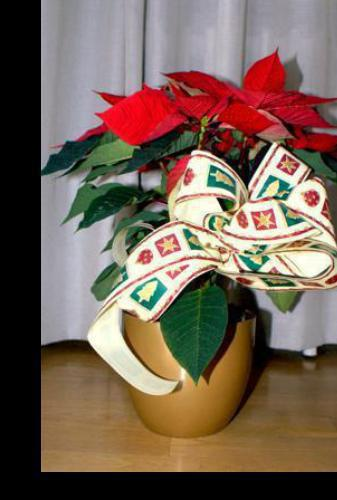Matera: (39, 50, 337, 444)
